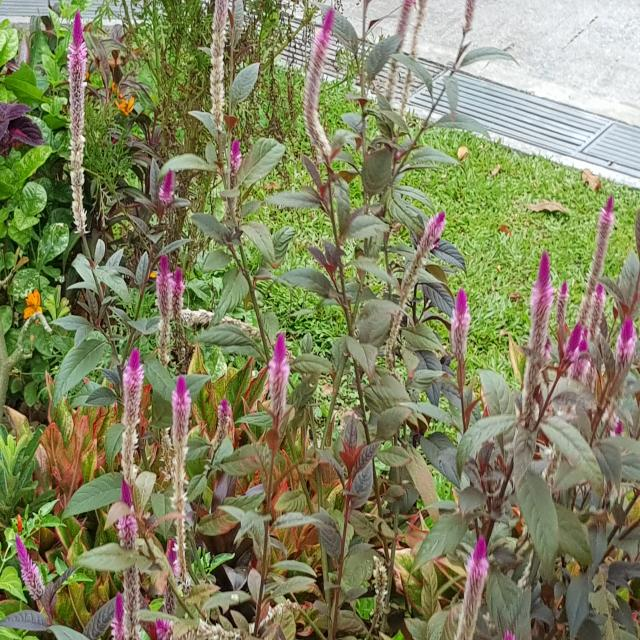Celosia-Argentea: (106, 504, 180, 640), (60, 10, 97, 254), (300, 9, 354, 167), (204, 2, 248, 195), (166, 370, 198, 568), (8, 530, 64, 624), (114, 328, 144, 494), (447, 536, 489, 640), (524, 240, 556, 364), (262, 303, 290, 444), (588, 179, 626, 279), (406, 204, 440, 308), (445, 287, 483, 374), (615, 310, 640, 393), (153, 253, 173, 354), (562, 331, 591, 396), (170, 246, 193, 321), (211, 386, 239, 446), (552, 267, 580, 322), (153, 160, 182, 212), (584, 271, 609, 331)
